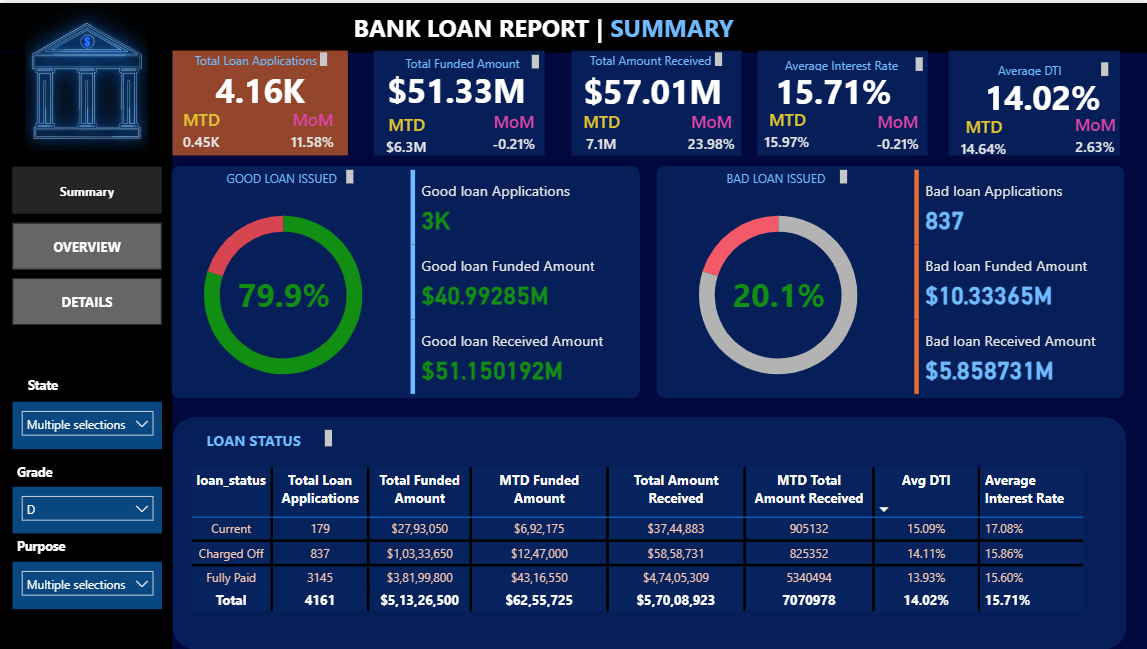

The page's visual inventory and layout, read from the dashboard file:
{"tool":"powerbi","page":{"name":"Summary","canvas":[1280,720],"ordinal":0},"visuals":[{"type":"shape","box":[0,55.5,191.8,664.7],"z":0},{"type":"shape","box":[191.8,460.9,1061.7,259.4],"z":1000},{"type":"shape","box":[0,0,1280,55.5],"z":2000},{"type":"textbox","box":[381.2,4.8,447.6,45.8],"z":3000},{"type":"shape","box":[191.8,53.1,195.4,117],"z":4000},{"type":"textbox","box":[207.7,50.7,162.1,25.3],"z":5000},{"type":"card","title":"MTD","fields":{"Values":["financial_loan.MTD Loan Applications"]},"box":[191.2,116.5,67.1,50.7],"z":6000},{"type":"card","fields":{"Values":["financial_loan.Total Loan Applications"]},"box":[191.2,76,197.5,40.5],"z":7000},{"type":"card","title":"MoM","fields":{"Values":["financial_loan.Mom Loan Applications"]},"box":[314,116.5,67.1,50.7],"z":8000},{"type":"shape","box":[416.2,53.1,190.6,117],"z":9000},{"type":"textbox","box":[197.9,470.5,177.3,30.2],"z":10000},{"type":"card","title":"MTD","fields":{"Values":["financial_loan.MTD Funded Amount"]},"box":[418.6,123.1,67.6,50.7],"z":11000},{"type":"card","fields":{"Values":["financial_loan.Total Funded Amount"]},"box":[409,76,197.9,41],"z":12000},{"type":"card","title":"MoM","fields":{"Values":["financial_loan.Mom Total Funded Amount"]},"box":[538.1,119.4,67.6,50.7],"z":13000},{"type":"shape","box":[635.8,53.1,189.4,117],"z":14000},{"type":"textbox","box":[646.7,50.7,161.7,25.3],"z":15000},{"type":"card","title":"MTD","fields":{"Values":["financial_loan.MTD Total Amount Received"]},"box":[635.8,119.4,67.6,50.7],"z":16000},{"type":"card","fields":{"Values":["financial_loan.Total Amount Received"]},"box":[627.3,78.4,197.9,41],"z":17000},{"type":"card","title":"MoM","fields":{"Values":["financial_loan.Mom Total Amount Received"]},"box":[757.6,119.4,67.6,50.7],"z":18000},{"type":"shape","box":[843.3,53.1,189.4,117],"z":19000},{"type":"textbox","box":[849.3,55.5,183.4,25.3],"z":20000},{"type":"card","title":"MTD","fields":{"Values":["financial_loan.MTD Average Interest Rate"]},"box":[843.3,117,66.4,50.7],"z":21000},{"type":"card","fields":{"Values":["financial_loan.Average Interest Rate"]},"box":[828.8,78.4,196.6,41],"z":22000},{"type":"card","title":"MoM","fields":{"Values":["financial_loan.Mom Total Funded Amount"]},"box":[965.2,119.4,67.6,50.7],"z":23000},{"type":"shape","box":[191.2,181.1,521.7,259.6],"z":29000},{"type":"shape","box":[731,180.4,521.3,259.1],"z":30000},{"type":"card","fields":{"Values":["financial_loan.Good Loan %"]},"box":[257.1,305.2,117.8,40.5],"z":31000},{"type":"donutChart","fields":{"Category":["financial_loan.Good V Bad Loan"],"Y":["financial_loan.Total Loan Applications"]},"box":[191.2,210.2,249.5,230.5],"z":32000},{"type":"textbox","box":[236.5,181,161.7,25.3],"z":33000},{"type":"cardVisual","fields":{"Data":["financial_loan.Good loan Applications","financial_loan.Good loan Funded Amount","financial_loan.Good loan Received Amount"]},"box":[452.1,181.1,262.1,259.6],"z":34000},{"type":"donutChart","fields":{"Category":["financial_loan.Good V Bad Loan"],"Y":["financial_loan.Total Loan Applications"]},"box":[742.1,210.2,249.5,230.5],"z":35000},{"type":"card","fields":{"Values":["financial_loan.Bad Loan %"]},"box":[807.9,305.2,117.8,40.5],"z":36000},{"type":"textbox","box":[786.4,181.1,162.1,25.3],"z":37000},{"type":"cardVisual","fields":{"Data":["financial_loan.Bad loan Applications","financial_loan.Bad loan Funded Amount","financial_loan.Bad loan Received Amount"]},"box":[1012.2,181,234,259.4],"z":38000},{"type":"tableEx","fields":{"Values":["financial_loan.loan_status","financial_loan.Total Loan Applications","financial_loan.Total Funded Amount","financial_loan.MTD Funded Amount","financial_loan.Total Amount Received","financial_loan.MTD Total Amount Received","financial_loan.Avg DTI","financial_loan.Average Interest Rate"]},"box":[207.5,511.5,1020.6,184.6],"z":39000},{"type":"textbox","box":[433.1,53.1,172.5,25.3],"z":40000},{"type":"slicer","fields":{"Values":["financial_loan.address_state"]},"box":[13.3,444,166.5,53.1],"z":41000},{"type":"slicer","fields":{"Values":["financial_loan.purpose"]},"box":[13.3,621.3,166.5,53.1],"z":42000},{"type":"slicer","fields":{"Values":["financial_loan.grade"]},"box":[13.3,538.1,166.5,51.9],"z":43000},{"type":"textbox","box":[13.3,410.2,67.6,30.2],"z":44000},{"type":"textbox","box":[13.3,507.9,108.6,30.2],"z":45000},{"type":"textbox","box":[13.3,589.9,108.6,30.2],"z":46000},{"type":"image","box":[1.2,0,190.6,170.1],"z":46001},{"type":"pageNavigator","box":[13.3,182.2,166.5,177.3],"z":46002},{"type":"shape","box":[1055.6,53.1,190.6,117],"z":46003},{"type":"textbox","box":[1062.2,61.9,177.3,25.3],"z":46004},{"type":"card","title":"MTD","fields":{"Values":["financial_loan.MTD Avg DTI"]},"box":[1062.2,125.2,67.1,50.7],"z":46005},{"type":"card","fields":{"Values":["financial_loan.Avg DTI"]},"box":[1062.2,84.7,197.5,40.5],"z":46006},{"type":"card","title":"MoM","fields":{"Values":["financial_loan.Mom Avg DTI"]},"box":[1185.1,122.6,67.1,50.7],"z":46007}]}

Visuals, with their boxes in screenshot pixels (x1, y1, x2, y2), scaled from the page's 1280x720 canvas onto the 1147x649 screenshot:
shape: x1=0, y1=50, x2=172, y2=648
shape: x1=172, y1=415, x2=1123, y2=648
shape: x1=0, y1=0, x2=1146, y2=50
textbox: x1=342, y1=4, x2=743, y2=46
shape: x1=172, y1=48, x2=347, y2=153
textbox: x1=186, y1=46, x2=331, y2=69
"MTD" card: x1=171, y1=105, x2=231, y2=151
card - financial_loan.Total Loan Applications: x1=171, y1=69, x2=348, y2=105
"MoM" card: x1=281, y1=105, x2=342, y2=151
shape: x1=373, y1=48, x2=544, y2=153
textbox: x1=177, y1=424, x2=336, y2=451
"MTD" card: x1=375, y1=111, x2=436, y2=157
card - financial_loan.Total Funded Amount: x1=367, y1=69, x2=544, y2=105
"MoM" card: x1=482, y1=108, x2=543, y2=153
shape: x1=570, y1=48, x2=739, y2=153
textbox: x1=580, y1=46, x2=724, y2=69
"MTD" card: x1=570, y1=108, x2=630, y2=153
card - financial_loan.Total Amount Received: x1=562, y1=71, x2=739, y2=108
"MoM" card: x1=679, y1=108, x2=739, y2=153
shape: x1=756, y1=48, x2=925, y2=153
textbox: x1=761, y1=50, x2=925, y2=73
"MTD" card: x1=756, y1=105, x2=815, y2=151
card - financial_loan.Average Interest Rate: x1=743, y1=71, x2=919, y2=108
"MoM" card: x1=865, y1=108, x2=925, y2=153
shape: x1=171, y1=163, x2=639, y2=397
shape: x1=655, y1=163, x2=1122, y2=396
card - financial_loan.Good Loan %: x1=230, y1=275, x2=336, y2=312
donutChart - financial_loan.Good V Bad Loan x financial_loan.Total Loan Applications: x1=171, y1=189, x2=395, y2=397
textbox: x1=212, y1=163, x2=357, y2=186
cardVisual - financial_loan.Good loan Applications x financial_loan.Good loan Funded Amount: x1=405, y1=163, x2=640, y2=397
donutChart - financial_loan.Good V Bad Loan x financial_loan.Total Loan Applications: x1=665, y1=189, x2=889, y2=397
card - financial_loan.Bad Loan %: x1=724, y1=275, x2=830, y2=312
textbox: x1=705, y1=163, x2=850, y2=186
cardVisual - financial_loan.Bad loan Applications x financial_loan.Bad loan Funded Amount: x1=907, y1=163, x2=1117, y2=397
tableEx - financial_loan.loan_status x financial_loan.Total Loan Applications: x1=186, y1=461, x2=1100, y2=627
textbox: x1=388, y1=48, x2=543, y2=71
slicer - financial_loan.address_state: x1=12, y1=400, x2=161, y2=448
slicer - financial_loan.purpose: x1=12, y1=560, x2=161, y2=608
slicer - financial_loan.grade: x1=12, y1=485, x2=161, y2=532
textbox: x1=12, y1=370, x2=72, y2=397
textbox: x1=12, y1=458, x2=109, y2=485
textbox: x1=12, y1=532, x2=109, y2=559
image: x1=1, y1=0, x2=172, y2=153
pageNavigator: x1=12, y1=164, x2=161, y2=324
shape: x1=946, y1=48, x2=1117, y2=153
textbox: x1=952, y1=56, x2=1111, y2=79
"MTD" card: x1=952, y1=113, x2=1012, y2=159
card - financial_loan.Avg DTI: x1=952, y1=76, x2=1129, y2=113
"MoM" card: x1=1062, y1=111, x2=1122, y2=156
